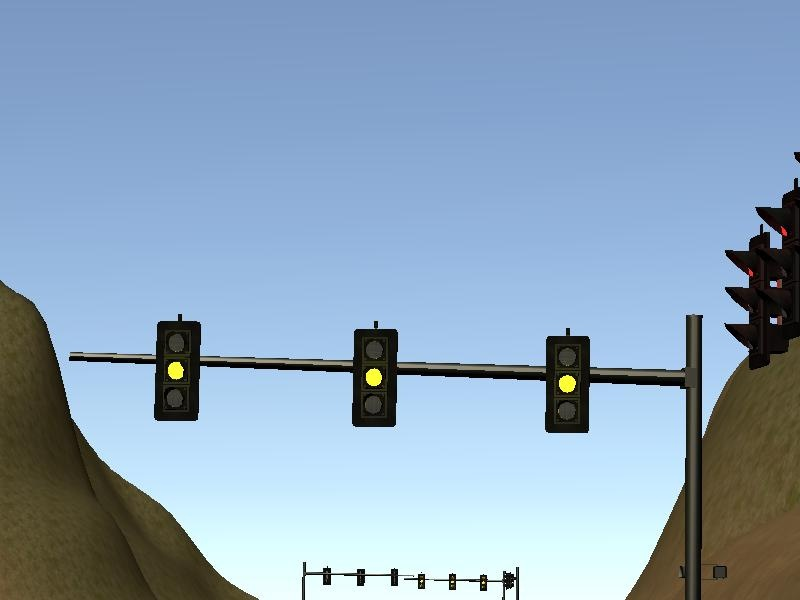YELLOW: (150, 319, 202, 422), (349, 326, 401, 429), (542, 332, 594, 435)
